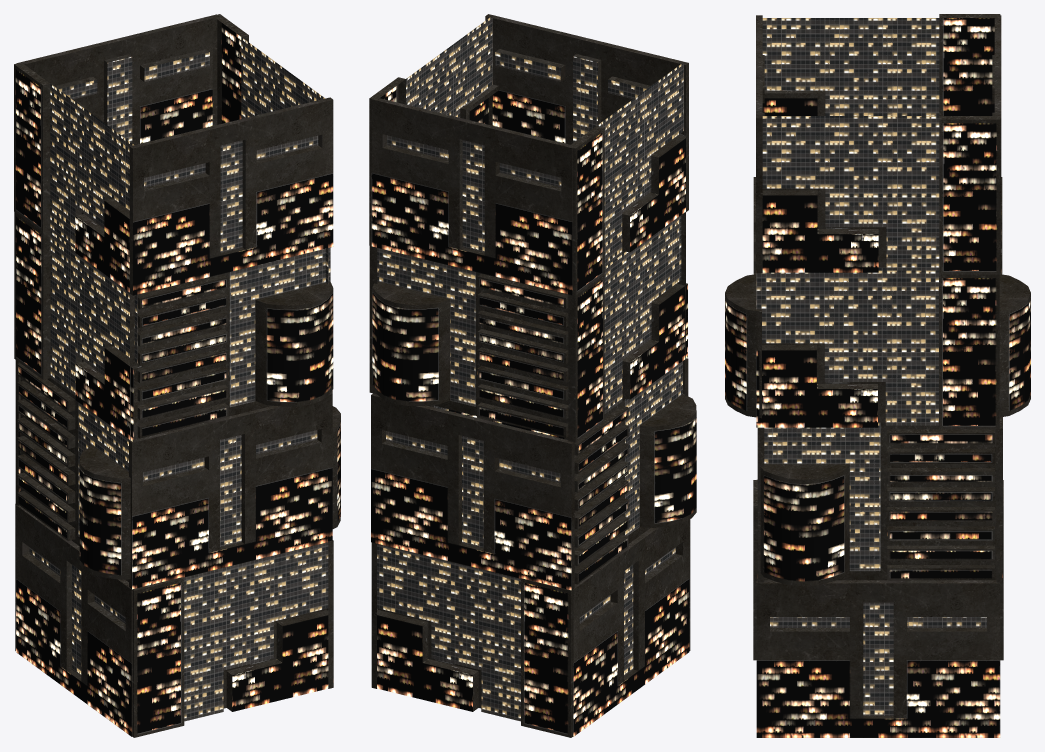
3 renders of one model, left to right at view 1: azimuth 30°, elevation 25°; view 2: azimuth 150°, elevation 25°; view 3: azimuth 270°, elevation 25°, orthographic. The views are drawn at different scales.
Parts seen in each view (by area): view 1: SM_Test_LP_LOD0; view 2: SM_Test_LP_LOD0; view 3: SM_Test_LP_LOD0.
Boxes of the visible parts, x1,y1,x2,y2 form: SM_Test_LP_LOD0: [14, 14, 340, 737]; SM_Test_LP_LOD0: [369, 14, 696, 737]; SM_Test_LP_LOD0: [725, 14, 1030, 737].
Size of the model in its own units: 3616 by 3616 by 8079.
1 material, 1 textured.
